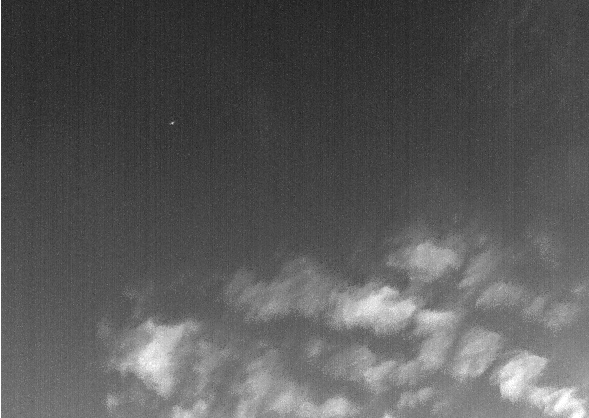dim target: (169, 120, 175, 126)
